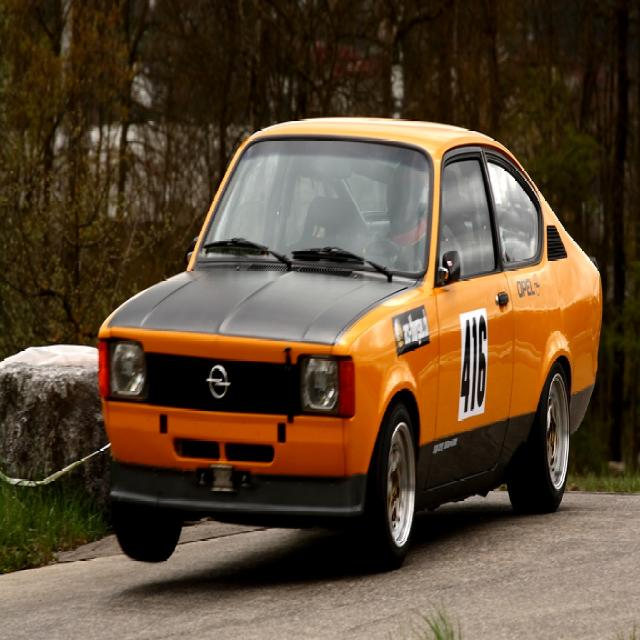car: (107, 108, 600, 567)
